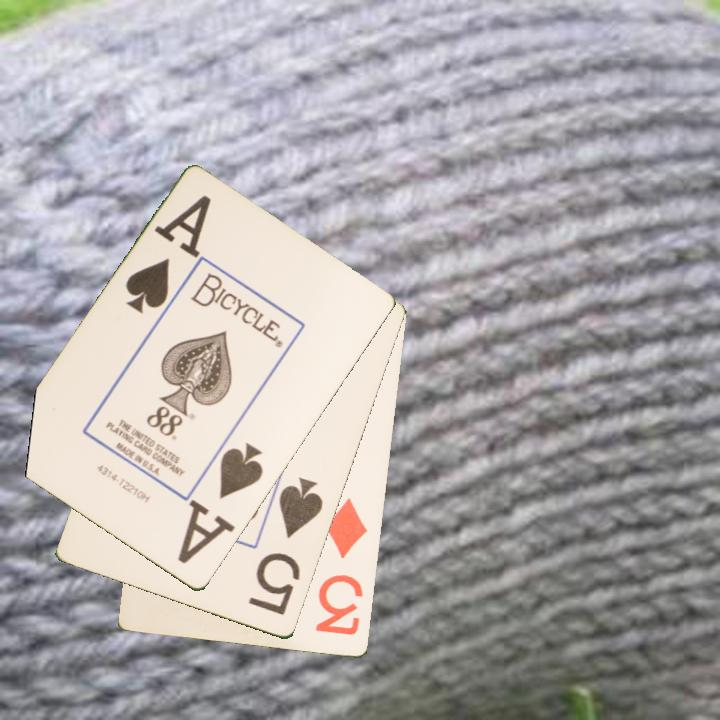3d: (312, 495, 371, 639)
5s: (245, 474, 327, 619)
As: (121, 192, 215, 317), (184, 440, 267, 555)
